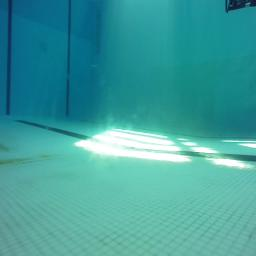Full: (225, 0, 256, 13)
